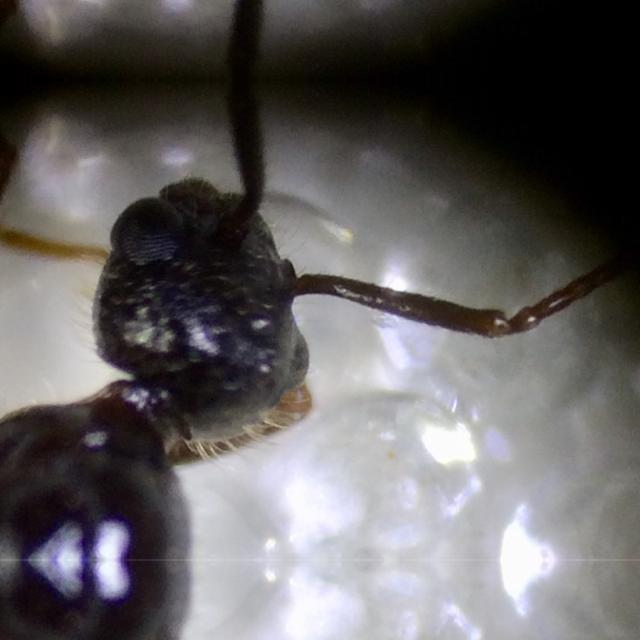Myrmica: (0, 92, 402, 560)
